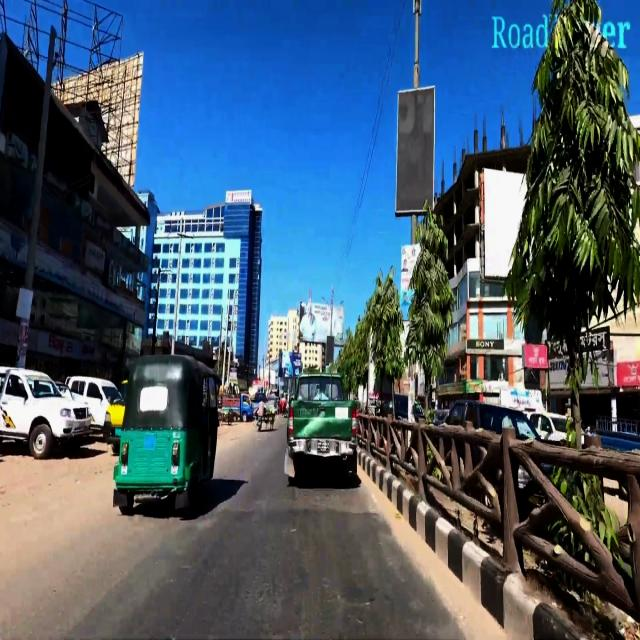black: (438, 401, 539, 452)
white: (0, 368, 91, 454), (88, 376, 121, 441), (530, 409, 586, 443)
